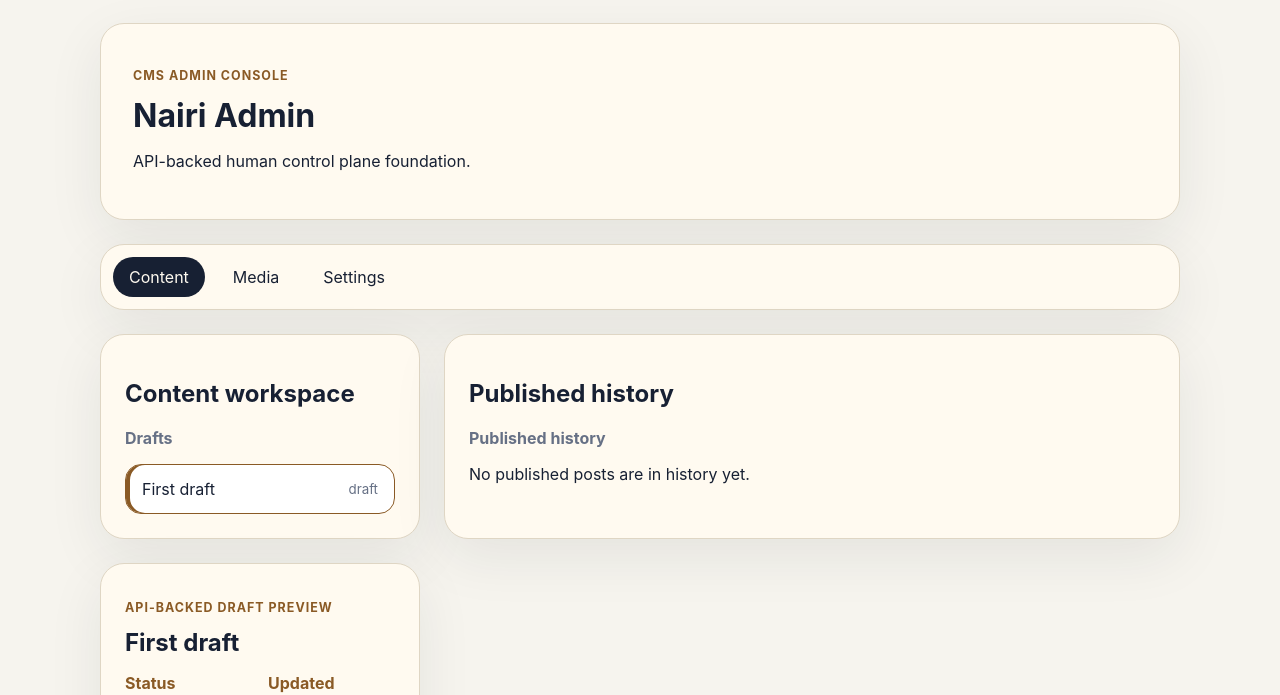
Scenario: Nairi admin console shell › selects a post and reads draft detail through the injected API boundary
The image size is (1280, 695).
Click the button "First draft draft" at (178, 489), box [125,464,395,514]
(page scrolled)
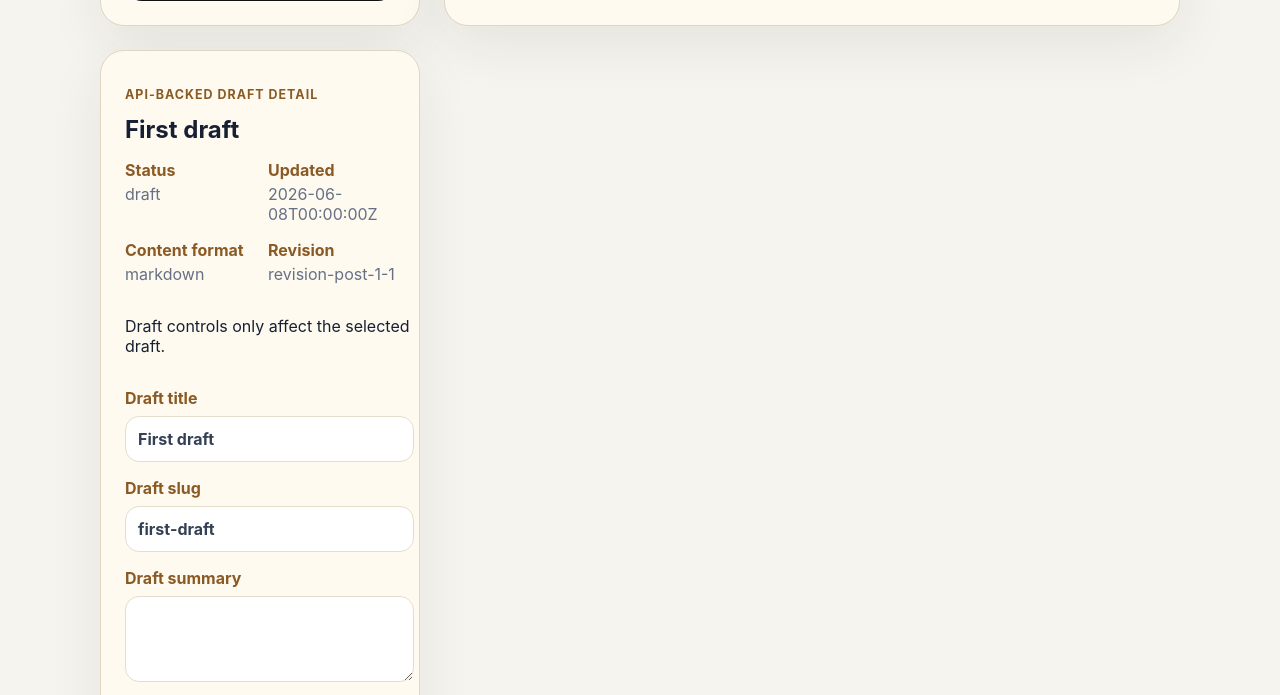
Expected: the heading "First draft" is shown, [125,115,239,144]
Result: the text "revision-post-1-1" is shown at [268,264,395,284]
Result: the text "Draft controls only affect the selected draft." is shown at [125,316,414,356]
